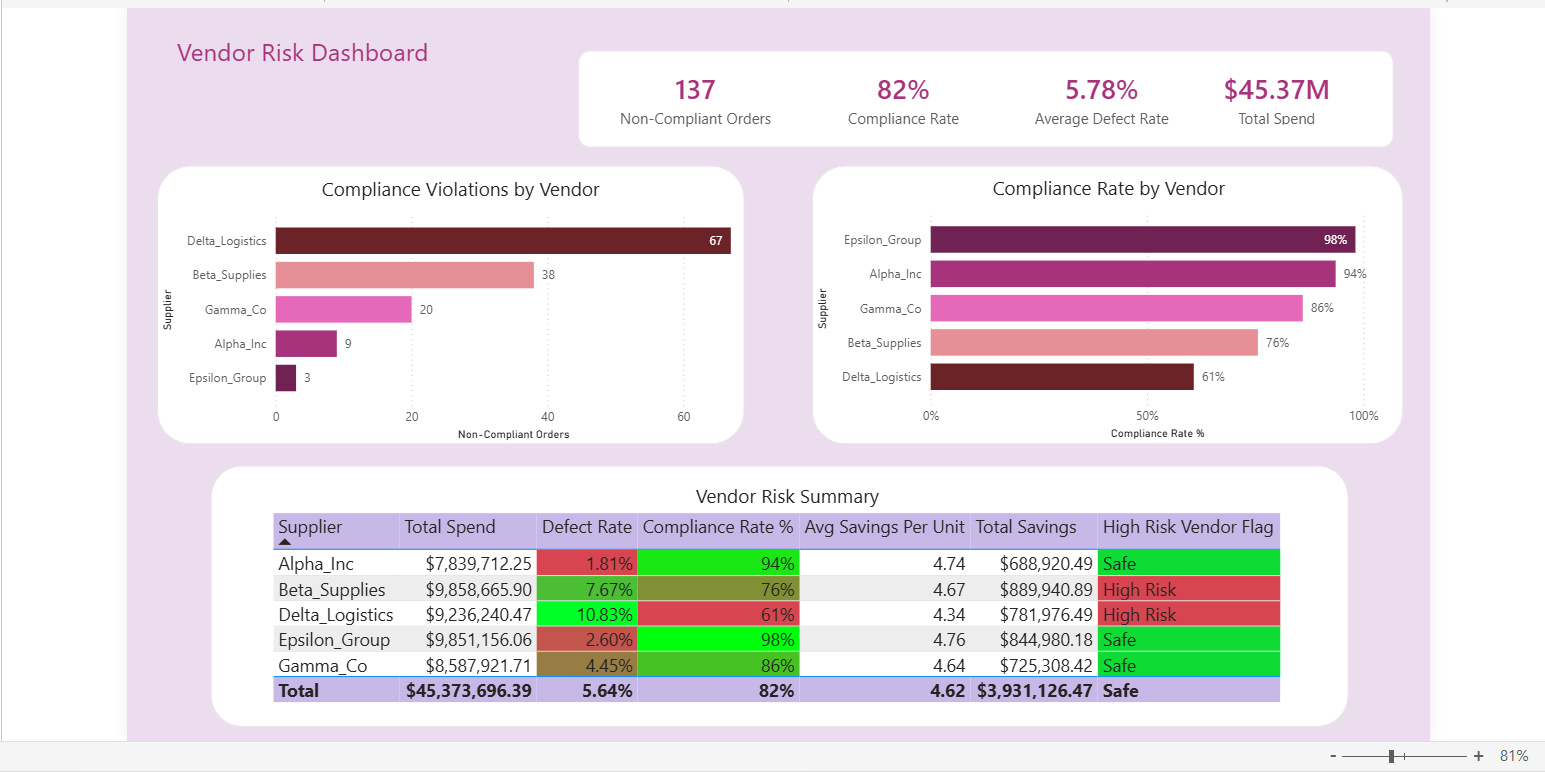

The dashboard page shown, as its layout file describes it:
{"tool":"powerbi","page":{"name":"Vendor Risk","canvas":[1280,720],"ordinal":3},"visuals":[{"type":"shape","box":[442.7,41.6,801,95.4],"z":0},{"type":"cardVisual","fields":{"Data":["Key Measures.Non-Compliant Orders"]},"box":[443.9,34.2,228.7,110.1],"z":1000},{"type":"shape","box":[29.3,155.3,577.2,273.9],"z":1500},{"type":"cardVisual","fields":{"Data":["Key Measures.Compliance Rate %"]},"box":[648.1,34.2,229.9,110.1],"z":2000},{"type":"shape","box":[81.9,450,1117.7,256.8],"z":2250},{"type":"shape","box":[672.6,155.3,580.8,273.9],"z":2500},{"type":"cardVisual","fields":{"Data":["Key Measures.Average Defect Rate %"]},"box":[843.8,34.2,228.7,110.1],"z":3000},{"type":"cardVisual","fields":{"Data":["Key Measures.Total Spend"]},"box":[1015,46.5,228.7,85.6],"z":4000},{"type":"barChart","title":"Compliance Violations by Vendor","fields":{"Category":["Procurement_cleaned.Supplier"],"Y":["Key Measures.Non-Compliant Orders"]},"box":[29.3,165.1,596.7,265.4],"z":5000},{"type":"barChart","title":"Compliance Rate by Vendor","fields":{"Category":["Procurement_cleaned.Supplier"],"Y":["Key Measures.Compliance Rate %"]},"box":[672.6,163.9,583.3,265.4],"z":6000},{"type":"tableEx","title":"Vendor Risk Summary","fields":{"Values":["Procurement_cleaned.Supplier","Key Measures.Total Spend","Key Measures.Defect Rate Weighted","Key Measures.Compliance Rate %","Key Measures.Avg Savings Per Unit","Key Measures.Total Savings","Key Measures.High Risk Vendor Flag"]},"box":[137,467.1,1022.3,223.8],"z":7000},{"type":"textbox","box":[44,22,298.4,48.9],"z":8000}]}

Visuals, with their boxes on the page's 1280x720 design canvas (x1, y1, x2, y2). These are canvas units, not pixel positions in the 1545x772 screenshot, which may show the page scaled, cropped or inside an application window:
shape: 443/42/1244/137
cardVisual - Key Measures.Non-Compliant Orders: 444/34/673/144
shape: 29/155/606/429
cardVisual - Key Measures.Compliance Rate %: 648/34/878/144
shape: 82/450/1200/707
shape: 673/155/1253/429
cardVisual - Key Measures.Average Defect Rate %: 844/34/1072/144
cardVisual - Key Measures.Total Spend: 1015/46/1244/132
"Compliance Violations by Vendor" barChart: 29/165/626/430
"Compliance Rate by Vendor" barChart: 673/164/1256/429
"Vendor Risk Summary" tableEx: 137/467/1159/691
textbox: 44/22/342/71
